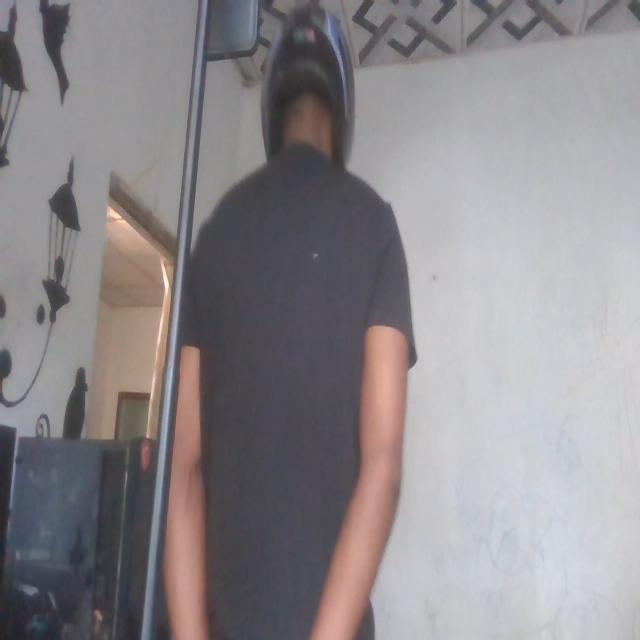Helmet_Wearer: (248, 0, 369, 200)
Person: (174, 0, 414, 640)
